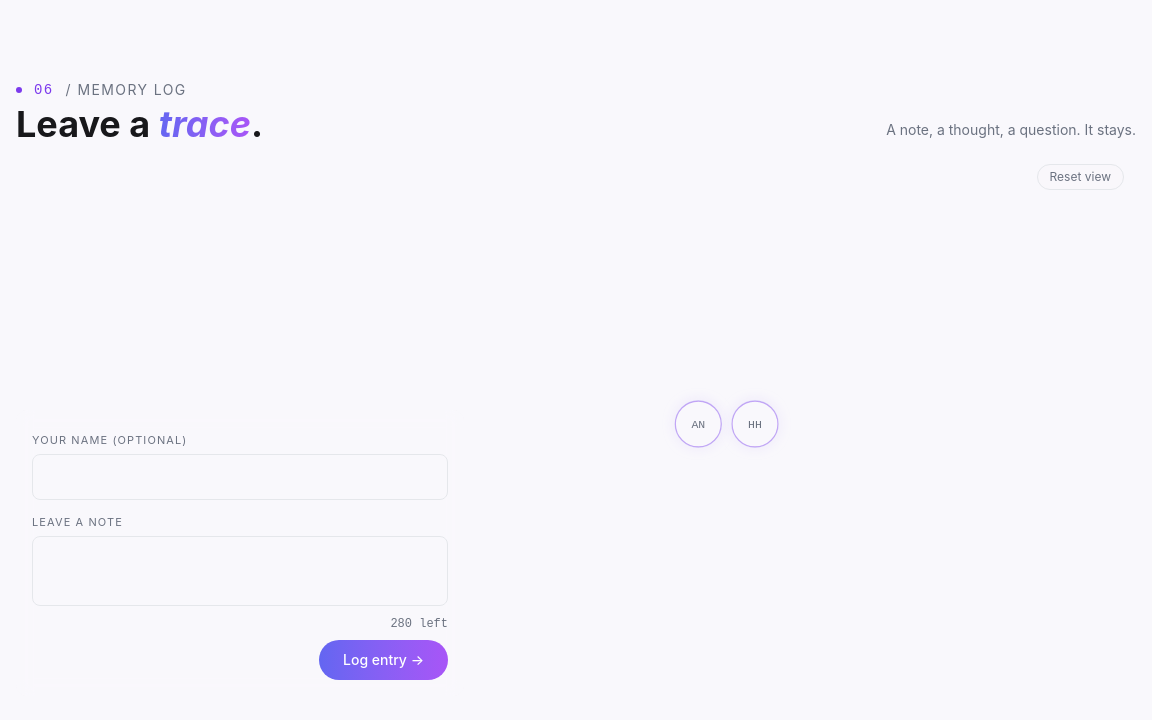
MemoryLog › requires a message
The image size is (1152, 720).
Click the button "Log entry →" at point(384, 660), box [319,640,448,680]
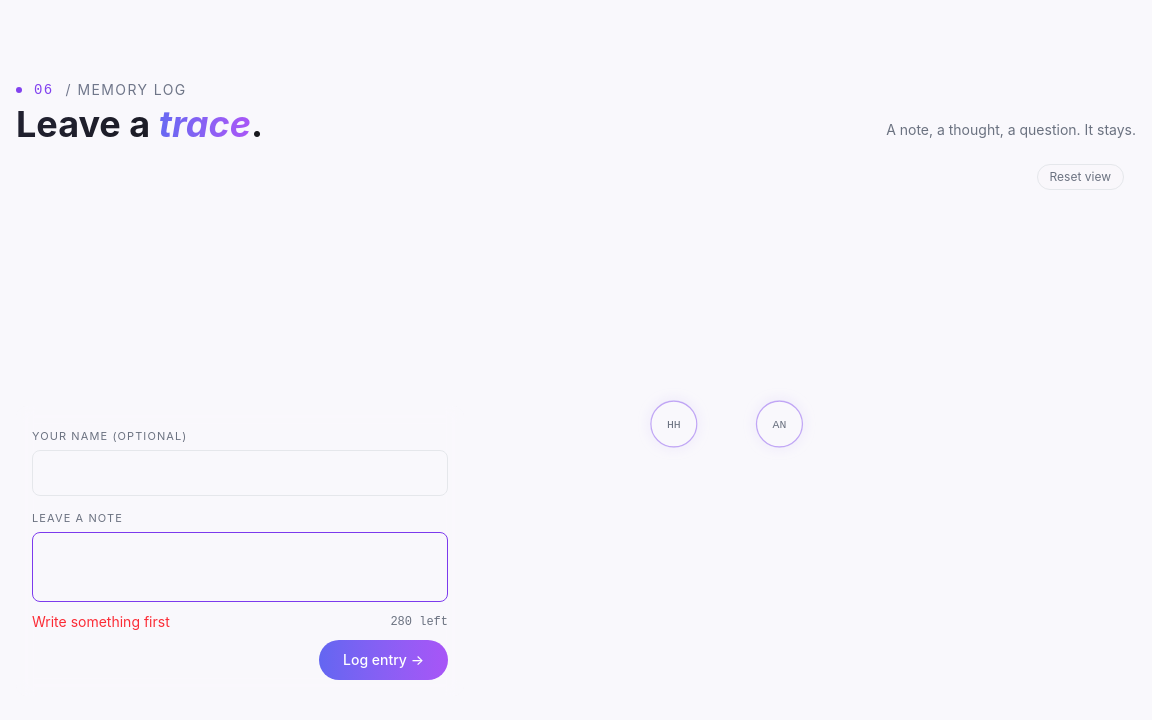
Check: the text "Write something first" is shown, box [32,612,170,632]
